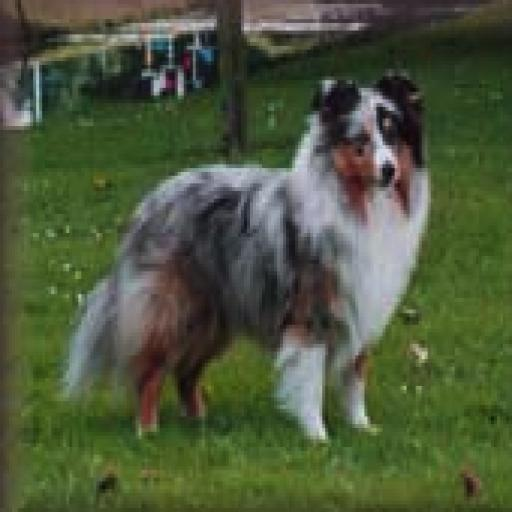dog_face: (319, 68, 422, 198)
